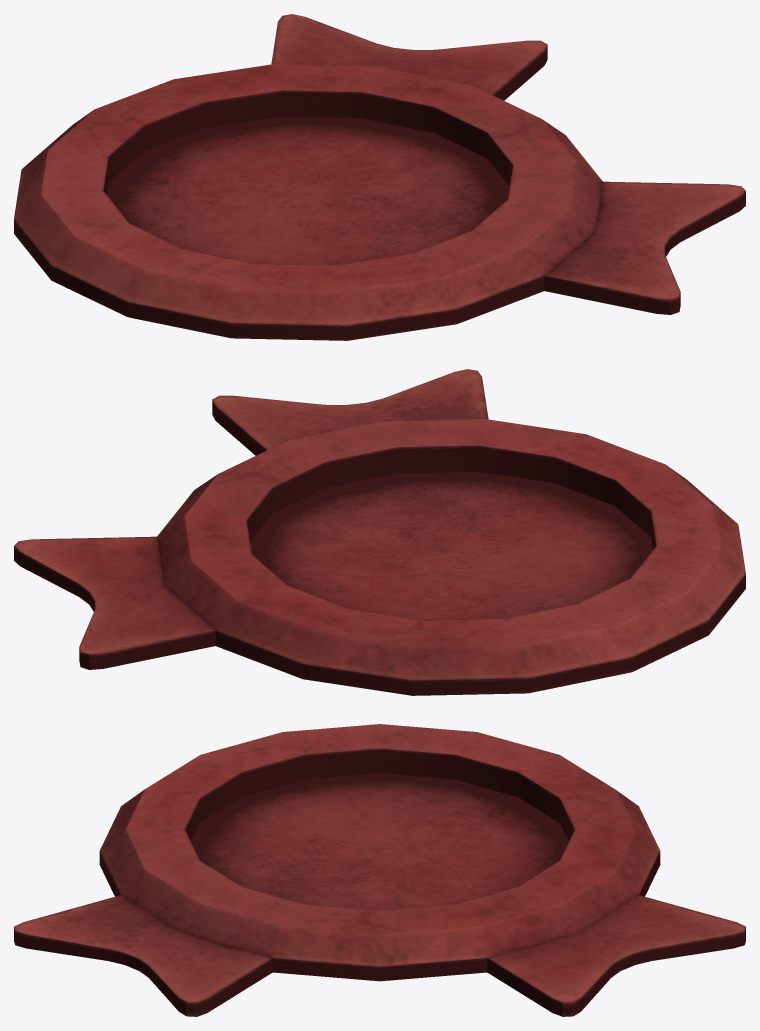
File: stamp.obj
3 views of the same model, one above another, from view 1: azimuth 30°, elevation 25°; view 2: azimuth 150°, elevation 25°; view 3: azimuth 270°, elevation 25° (orthographic). The views are drawn at different scales.
Parts seen in each view (by area): view 1: obj2; view 2: obj2; view 3: obj2.
Part boxes in pixels (x1,y1,x2,y2): obj2: [14, 14, 745, 340]; obj2: [14, 369, 745, 695]; obj2: [14, 724, 745, 1016].
Bounding box in the file's own units: 26.01 × 1.76 × 29.46.
1 material, 1 textured.
